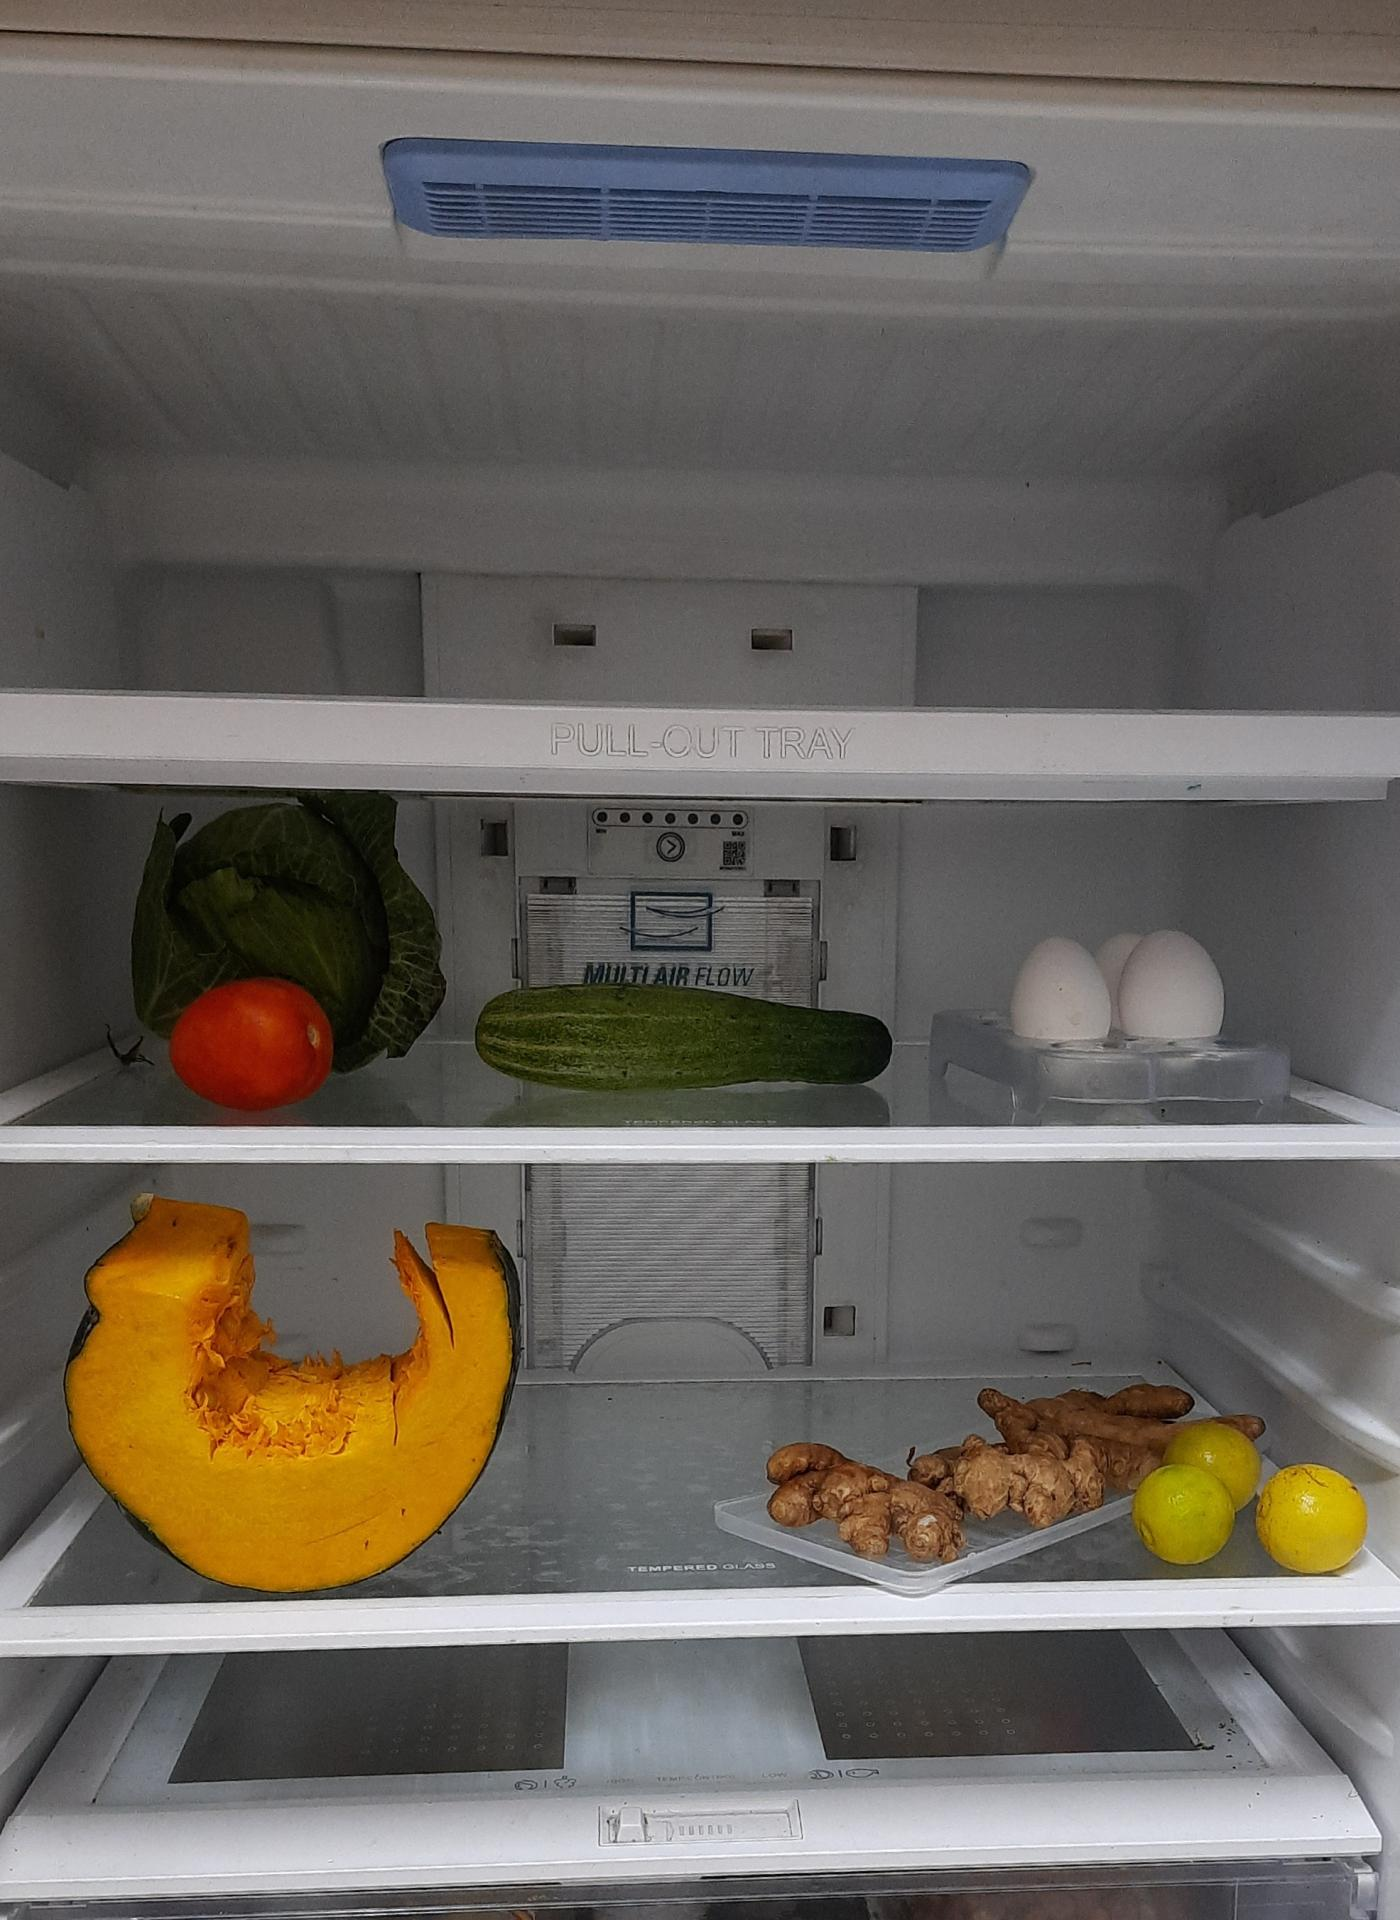cabbage: (136, 799, 447, 1060)
egg: (1012, 926, 1232, 1054)
ginger: (775, 1377, 1266, 1540)
lemon: (1136, 1425, 1269, 1567), (1255, 1461, 1372, 1568)
tomato: (165, 981, 338, 1108)
